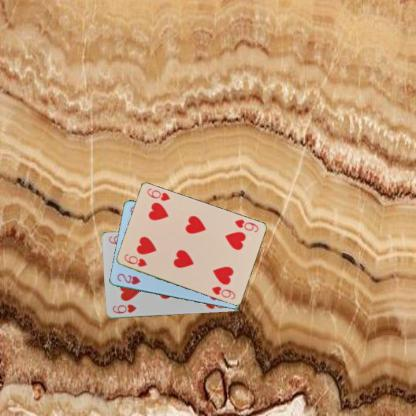2h: (115, 271, 142, 286)
6h: (121, 251, 148, 268), (232, 216, 259, 233), (110, 301, 137, 315)
